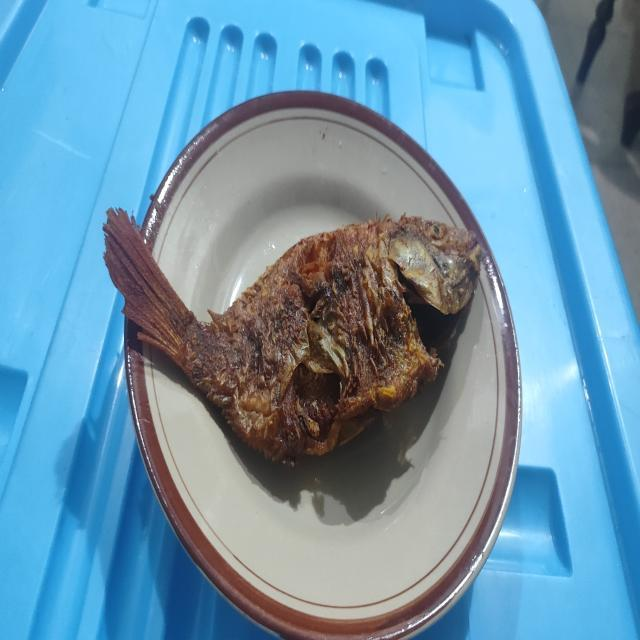ikan_mujair: (104, 208, 482, 462)
